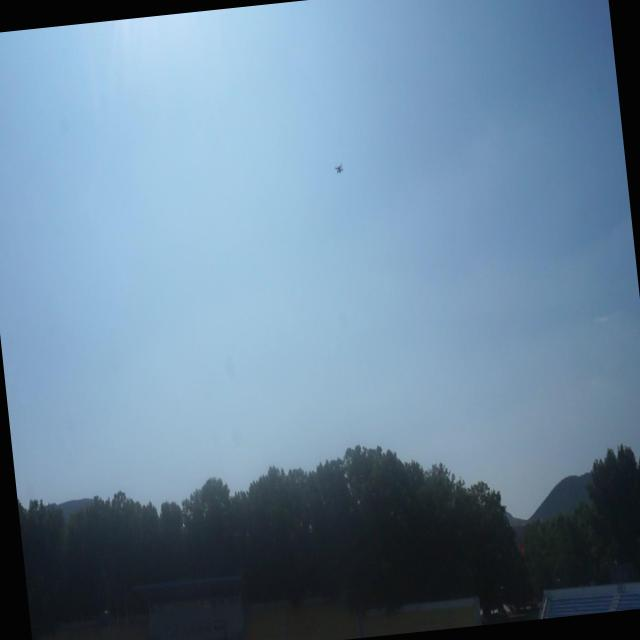drone: (332, 159, 343, 178)
